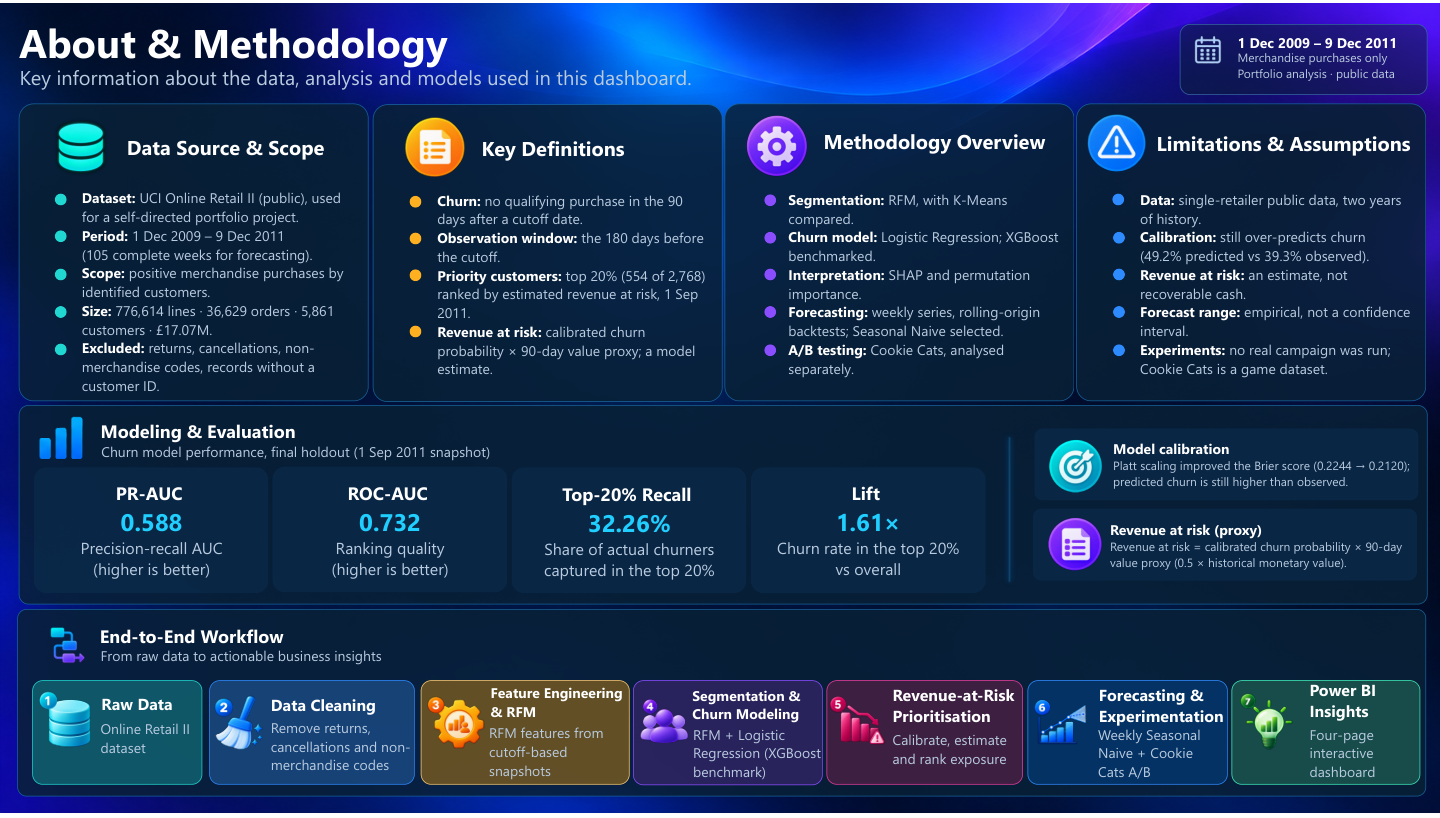

This screenshot's page, from the dashboard's own definition file:
{"tool":"powerbi","page":{"name":"About & Methodology","canvas":[1920,1080],"ordinal":3},"visuals":[{"type":"textbox","box":[25,14.3,628.6,76.8],"z":0},{"type":"group","id":"g1","title":"Group 2","box":[966,133.2,466.5,397],"z":0,"group":"g5"},{"type":"shape","box":[966,133.2,466.5,397],"z":0,"group":"g1"},{"type":"shape","box":[25.2,133.3,466.5,397],"z":0,"group":"g3"},{"type":"group","id":"g2","title":"Group 2","box":[1435.5,133.3,471,397],"z":0,"group":"g6"},{"type":"shape","box":[1435.5,133.3,466.5,397],"z":0,"group":"g2"},{"type":"shape","box":[497,134,466.5,397],"z":0,"group":"g4"},{"type":"textbox","box":[25.8,79,982.7,46.4],"z":1000},{"type":"textbox","box":[642.3,173.6,279.2,46.8],"z":1000,"group":"g4"},{"type":"textbox","box":[109,246,369.2,281],"z":1000,"group":"g3"},{"type":"textbox","box":[1050.7,248.5,369.2,281],"z":1000,"group":"g1"},{"type":"textbox","box":[1520.2,248.6,369.2,281],"z":1000,"group":"g2"},{"type":"shape","box":[1573.2,26.8,330.4,94.6],"z":2000},{"type":"image","box":[984,135,103,106],"z":2000,"group":"g1"},{"type":"image","box":[48.6,137,120.7,111.7],"z":2000,"group":"g3"},{"type":"image","box":[1447,141,93,94],"z":2000,"group":"g2"},{"type":"textbox","box":[582.9,249.2,369.2,281],"z":2000,"group":"g4"},{"type":"textbox","box":[1650,39.3,244.6,35.7],"z":3000},{"type":"image","box":[531,141,98.2,100],"z":3000,"group":"g4"},{"type":"textbox","box":[1098,165.2,313.4,55.8],"z":3000,"group":"g1"},{"type":"textbox","box":[1542.7,167,363.8,77.4],"z":3000,"group":"g2"},{"type":"textbox","box":[169.3,172.9,279.2,46.8],"z":3000,"group":"g3"},{"type":"textbox","box":[1650,60.7,225,60.7],"z":4000},{"type":"shape","box":[1483.5,253,16,16],"z":4000,"group":"g2"},{"type":"shape","box":[73.2,253.6,16,16],"z":4000,"group":"g3"},{"type":"shape","box":[1019,254,16,16],"z":4000,"group":"g1"},{"type":"shape","box":[546.2,256,16,16],"z":4000,"group":"g4"},{"type":"image","box":[1546.4,21.4,128.6,78.6],"z":5000},{"type":"shape","box":[73.2,302,16,16],"z":5000,"group":"g3"},{"type":"shape","box":[545.7,305,16,16],"z":5000,"group":"g4"},{"type":"shape","box":[73.2,353.6,16,16],"z":6000,"group":"g3"},{"type":"shape","box":[546.4,353.6,16,16],"z":6000,"group":"g4"},{"type":"shape","box":[25.2,534.9,1878.6,266],"z":6000},{"type":"group","id":"g3","title":"Group 2","box":[25.2,133.3,466.5,397],"z":7000},{"type":"shape","box":[73.2,403.6,16,16],"z":7000,"group":"g3"},{"type":"shape","box":[546.4,429,16,16],"z":7000,"group":"g4"},{"type":"group","id":"g4","title":"Group 3","box":[497,134,466.5,397],"z":8000},{"type":"shape","box":[73.2,453.6,16,16],"z":8000,"group":"g3"},{"type":"group","id":"g5","title":"Group 3","box":[966,133.2,466.5,397],"z":9000},{"type":"shape","box":[1019.4,304.4,16,16],"z":10000},{"type":"shape","box":[1019.4,353,16,16],"z":11000},{"type":"shape","box":[1019.4,403.5,16,16],"z":12000},{"type":"shape","box":[1019.4,453.9,16,16],"z":13000},{"type":"group","id":"g6","title":"Group 3","box":[1435.5,133.3,471,397],"z":14000},{"type":"shape","box":[1484.1,304.4,16,16],"z":15000},{"type":"shape","box":[1484.1,353,16,16],"z":16000},{"type":"shape","box":[1484.1,403.5,16,16],"z":17000},{"type":"shape","box":[1484.1,453.9,16,16],"z":18000},{"type":"shape","box":[45,618,313,168],"z":19000},{"type":"image","box":[27,528,93,94],"z":20000},{"type":"textbox","box":[134.3,553.1,450,32.1],"z":21000},{"type":"textbox","box":[135.1,583.6,556.5,30.6],"z":22000},{"type":"shape","box":[363,617,313.4,168],"z":23000},{"type":"shape","box":[682,617.8,313.4,168],"z":24000},{"type":"shape","box":[1001,617.8,313.4,168],"z":25000},{"type":"textbox","box":[75.6,635.8,252.2,133.3],"z":26000},{"type":"textbox","box":[394.4,635.8,252.2,133.3],"z":27000},{"type":"textbox","box":[695.2,637,288.2,153.1],"z":28000},{"type":"textbox","box":[1019.4,636,277.4,142.3],"z":29000},{"type":"shape","box":[1316.1,569.6,60.7,208.9],"z":30000},{"type":"shape","box":[1378.6,566.1,512.5,96.4],"z":31000},{"type":"shape","box":[1376.8,673.2,512.5,96.4],"z":32000},{"type":"image","box":[1396,569.6,78,93],"z":33000},{"type":"image","box":[1394.7,669.6,105.4,101.8],"z":34000},{"type":"textbox","box":[1483.9,580,410.7,91.1],"z":35000},{"type":"textbox","box":[1480.4,687.5,410.7,91.1],"z":36000},{"type":"shape","box":[23.2,807.1,1878.6,250],"z":37000},{"type":"shape","box":[42.9,901.8,226.8,139.3],"z":38000},{"type":"textbox","box":[132.8,825.9,450,32.1],"z":39000},{"type":"textbox","box":[133.7,856.4,556.5,30.6],"z":40000},{"type":"shape","box":[278.6,901.8,274,139.3],"z":41000},{"type":"shape","box":[560.7,901.8,278.6,139.3],"z":42000},{"type":"shape","box":[844,901.8,253,140],"z":43000},{"type":"shape","box":[1102,901.8,262,139.3],"z":44000},{"type":"shape","box":[1370,901.8,267,139.3],"z":45000},{"type":"shape","box":[1642,901.8,251.8,139.3],"z":46000},{"type":"textbox","box":[653.6,906,180.4,64.3],"z":47000},{"type":"textbox","box":[135.7,919.7,139.3,33.9],"z":47000,"group":"g7"},{"type":"textbox","box":[1465,907.1,180.4,67.9],"z":48000},{"type":"textbox","box":[133.9,954,135.7,55.4],"z":48000,"group":"g7"},{"type":"image","box":[39.3,889.3,100,128.6],"z":49000,"group":"g7"},{"type":"textbox","box":[1746.4,900,128.6,64.3],"z":49000},{"type":"textbox","box":[1190,907.1,187.5,60.7],"z":50000},{"type":"textbox","box":[1464.3,960.7,162.5,80.4],"z":51000},{"type":"textbox","box":[1746.4,960.7,123.2,78.6],"z":52000},{"type":"textbox","box":[923.2,908.9,160.7,62.5],"z":53000},{"type":"image","box":[1362.5,892.9,100,128.6],"z":54000},{"type":"image","box":[1641,894.6,100,128.6],"z":55000},{"type":"textbox","box":[1190,967.9,175,69.6],"z":56000},{"type":"textbox","box":[651.8,958.9,180.4,75],"z":57000},{"type":"image","box":[1093,892.9,100,128.6],"z":58000},{"type":"textbox","box":[924,960.7,187.5,89.3],"z":59000},{"type":"image","box":[558.9,894.6,100,128.6],"z":60000},{"type":"image","box":[840,903.5,91.1,107.1],"z":61000},{"type":"textbox","box":[361,919.6,189.3,33.9],"z":62000},{"type":"textbox","box":[361,951.8,187.5,105.4],"z":63000},{"type":"image","box":[267,895,100,128.6],"z":64000},{"type":"group","id":"g7","title":"Group 1","box":[39.3,889.3,235.7,128.6],"z":65000},{"type":"image","box":[0,794.6,192.9,123.2],"z":65001}]}

Visuals, with their boxes in screenshot pixels (x1, y1, x2, y2), scaled from the page's 1920x1080 canvas onto the 1440x818 screenshot:
textbox: (19,11,490,69)
"Group 2" group: (724,101,1074,402)
shape: (724,101,1074,402)
shape: (19,101,369,402)
"Group 2" group: (1077,101,1430,402)
shape: (1077,101,1426,402)
shape: (373,101,723,402)
textbox: (19,60,756,95)
textbox: (482,131,691,167)
textbox: (82,186,359,399)
textbox: (788,188,1065,401)
textbox: (1140,188,1417,401)
shape: (1180,20,1428,92)
image: (738,102,815,183)
image: (36,104,127,188)
image: (1085,107,1155,178)
textbox: (437,189,714,402)
textbox: (1238,30,1421,57)
image: (398,107,472,183)
textbox: (824,125,1059,167)
textbox: (1157,126,1430,185)
textbox: (127,131,336,166)
textbox: (1238,46,1406,92)
shape: (1113,192,1125,204)
shape: (55,192,67,204)
shape: (764,192,776,204)
shape: (410,194,422,206)
image: (1160,16,1256,76)
shape: (55,229,67,241)
shape: (409,231,421,243)
shape: (55,268,67,280)
shape: (410,268,422,280)
shape: (19,405,1428,607)
"Group 2" group: (19,101,369,402)
shape: (55,306,67,318)
shape: (410,325,422,337)
"Group 3" group: (373,101,723,402)
shape: (55,344,67,356)
"Group 3" group: (724,101,1074,402)
shape: (765,231,777,243)
shape: (765,267,777,279)
shape: (765,306,777,318)
shape: (765,344,777,356)
"Group 3" group: (1077,101,1430,402)
shape: (1113,231,1125,243)
shape: (1113,267,1125,279)
shape: (1113,306,1125,318)
shape: (1113,344,1125,356)
shape: (34,468,268,595)
image: (20,400,90,471)
textbox: (101,419,438,443)
textbox: (101,442,519,465)
shape: (272,467,507,595)
shape: (512,468,747,595)
shape: (751,468,986,595)
textbox: (57,482,246,583)
textbox: (296,482,485,583)
textbox: (521,482,738,598)
textbox: (765,482,973,589)
shape: (987,431,1033,590)
shape: (1034,429,1418,502)
shape: (1033,510,1417,583)
image: (1047,431,1106,502)
image: (1046,507,1125,584)
textbox: (1113,439,1421,508)
textbox: (1110,521,1418,590)
shape: (17,611,1426,801)
shape: (32,683,202,789)
textbox: (100,626,437,650)
textbox: (100,649,518,672)
shape: (209,683,414,789)
shape: (421,683,629,789)
shape: (633,683,823,789)
shape: (826,683,1023,789)
shape: (1028,683,1228,789)
shape: (1232,683,1420,789)
textbox: (490,686,626,735)
textbox: (102,697,206,722)
textbox: (1099,687,1234,738)
textbox: (100,723,202,765)
image: (29,674,104,771)
textbox: (1310,682,1406,730)
textbox: (892,687,1033,733)
textbox: (1098,728,1220,789)
textbox: (1310,728,1402,787)
textbox: (692,688,813,736)
image: (1022,676,1097,774)
image: (1231,678,1306,775)
textbox: (892,733,1024,786)
textbox: (489,726,624,783)
image: (820,676,895,774)
textbox: (693,728,834,795)
image: (419,678,494,775)
image: (630,684,698,765)
textbox: (271,697,413,722)
textbox: (271,721,411,801)
image: (200,678,275,775)
"Group 1" group: (29,674,206,771)
image: (0,602,145,695)
